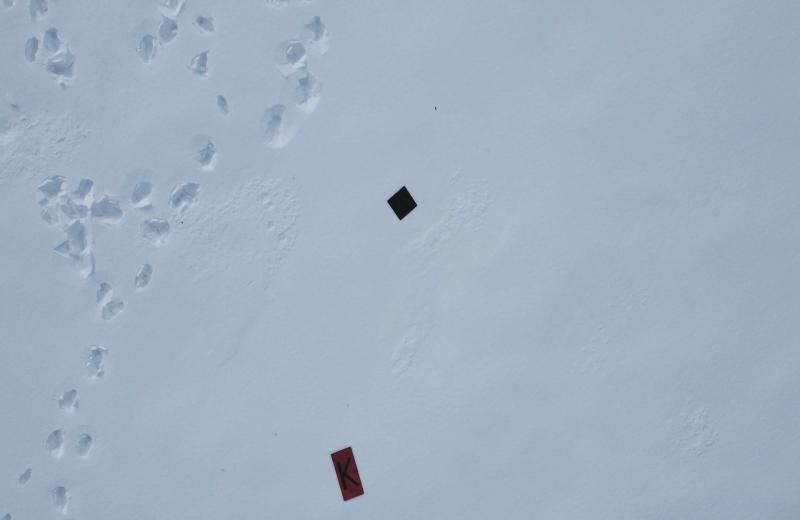Rectangle: (332, 445, 366, 504)
Square: (386, 184, 418, 222)
